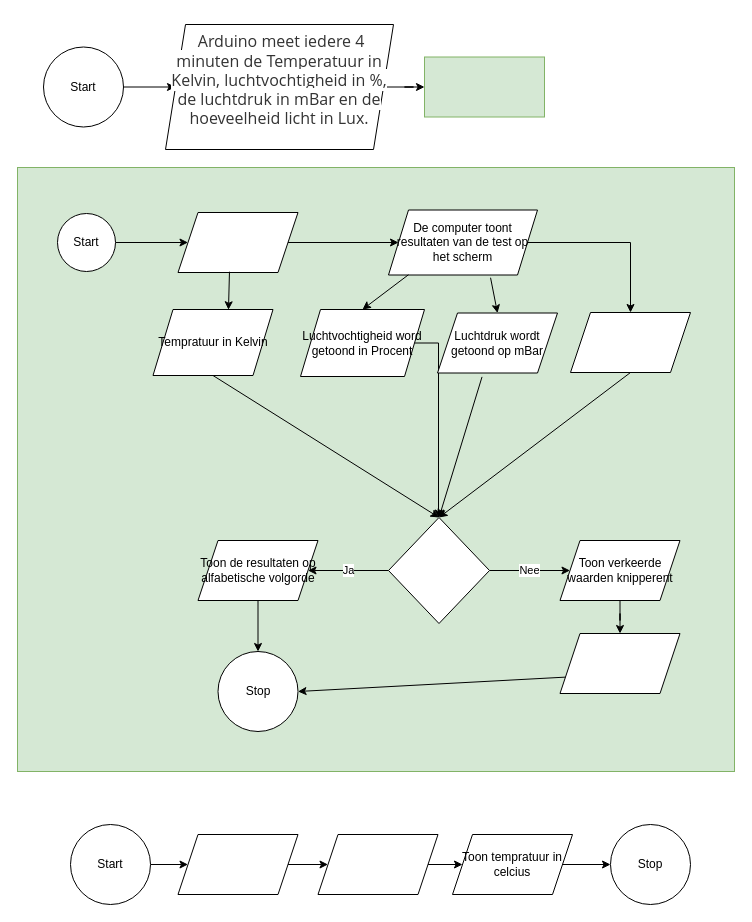
Image size: 752x922. Some labels were removed from this diagram. The shapes that lost their labels are listed below. From the top down, each one's centre as x and y in pixels, then its label:
At (x=484, y=86): "Arduino start de meting".
At (x=237, y=242): "Computer start test en onthoud de resultaten".
At (x=630, y=342): "Licht wordt getoond in Lux".
At (x=439, y=570): "Is de waarde hetzelfde als de vorige meting".
At (x=619, y=663): "Knipper alle andere waarden".
At (x=237, y=864): "Toon waarden in kelvin".
At (x=377, y=864): "Reken waarden naar celcius door min 273 te doen".
